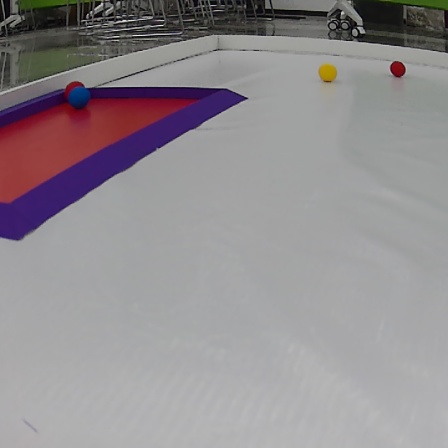blue: (67, 86, 93, 108)
red: (388, 59, 413, 79)
red_aim: (0, 80, 244, 257)
yellow: (317, 63, 336, 81)
